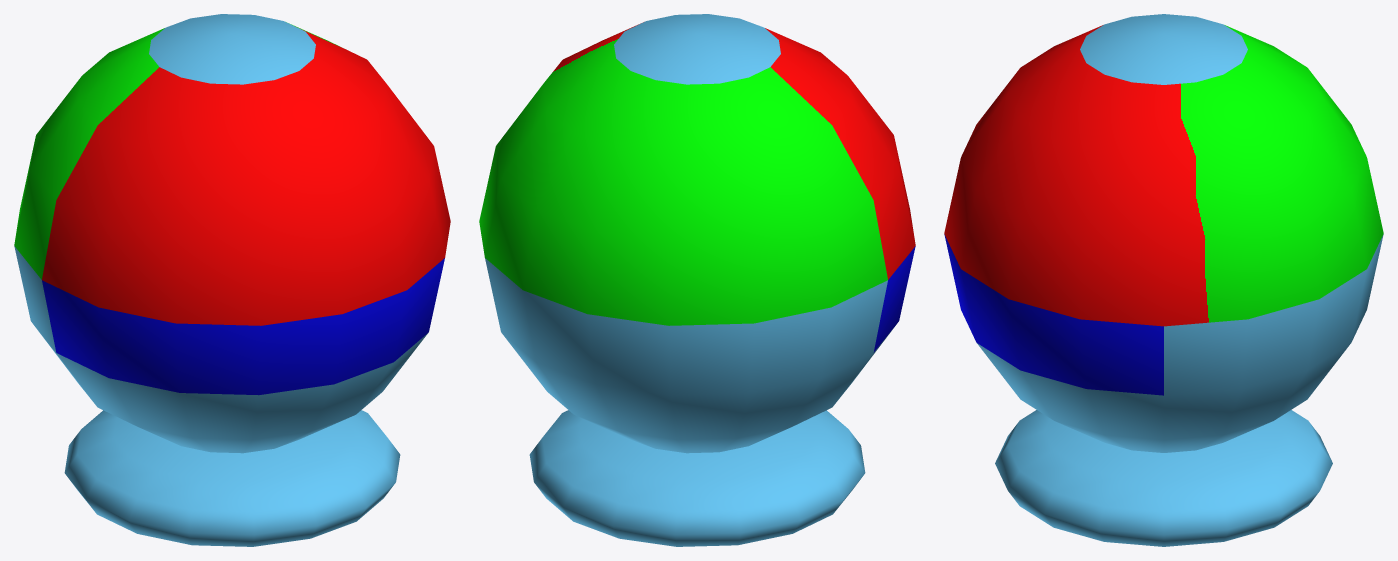
File: showcase.glb
The picture shows the model from 3 angles, left to right: view 1: azimuth 30°, elevation 25°; view 2: azimuth 150°, elevation 25°; view 3: azimuth 270°, elevation 25°; orthographic projection.
Visible parts, largest first — view 1: textured globe, blue pedestal; view 2: textured globe, blue pedestal; view 3: textured globe, blue pedestal.
Part boxes in pixels (x1,y1,x2,y2): textured globe: (14,14,450,453); blue pedestal: (64,410,400,546); textured globe: (479,14,915,453); blue pedestal: (529,410,865,546); textured globe: (944,14,1383,452); blue pedestal: (995,410,1332,546).
Size of the model in its own units: 1.3 by 1.55 by 1.3.
Materials: 2 (1 with a texture image).
